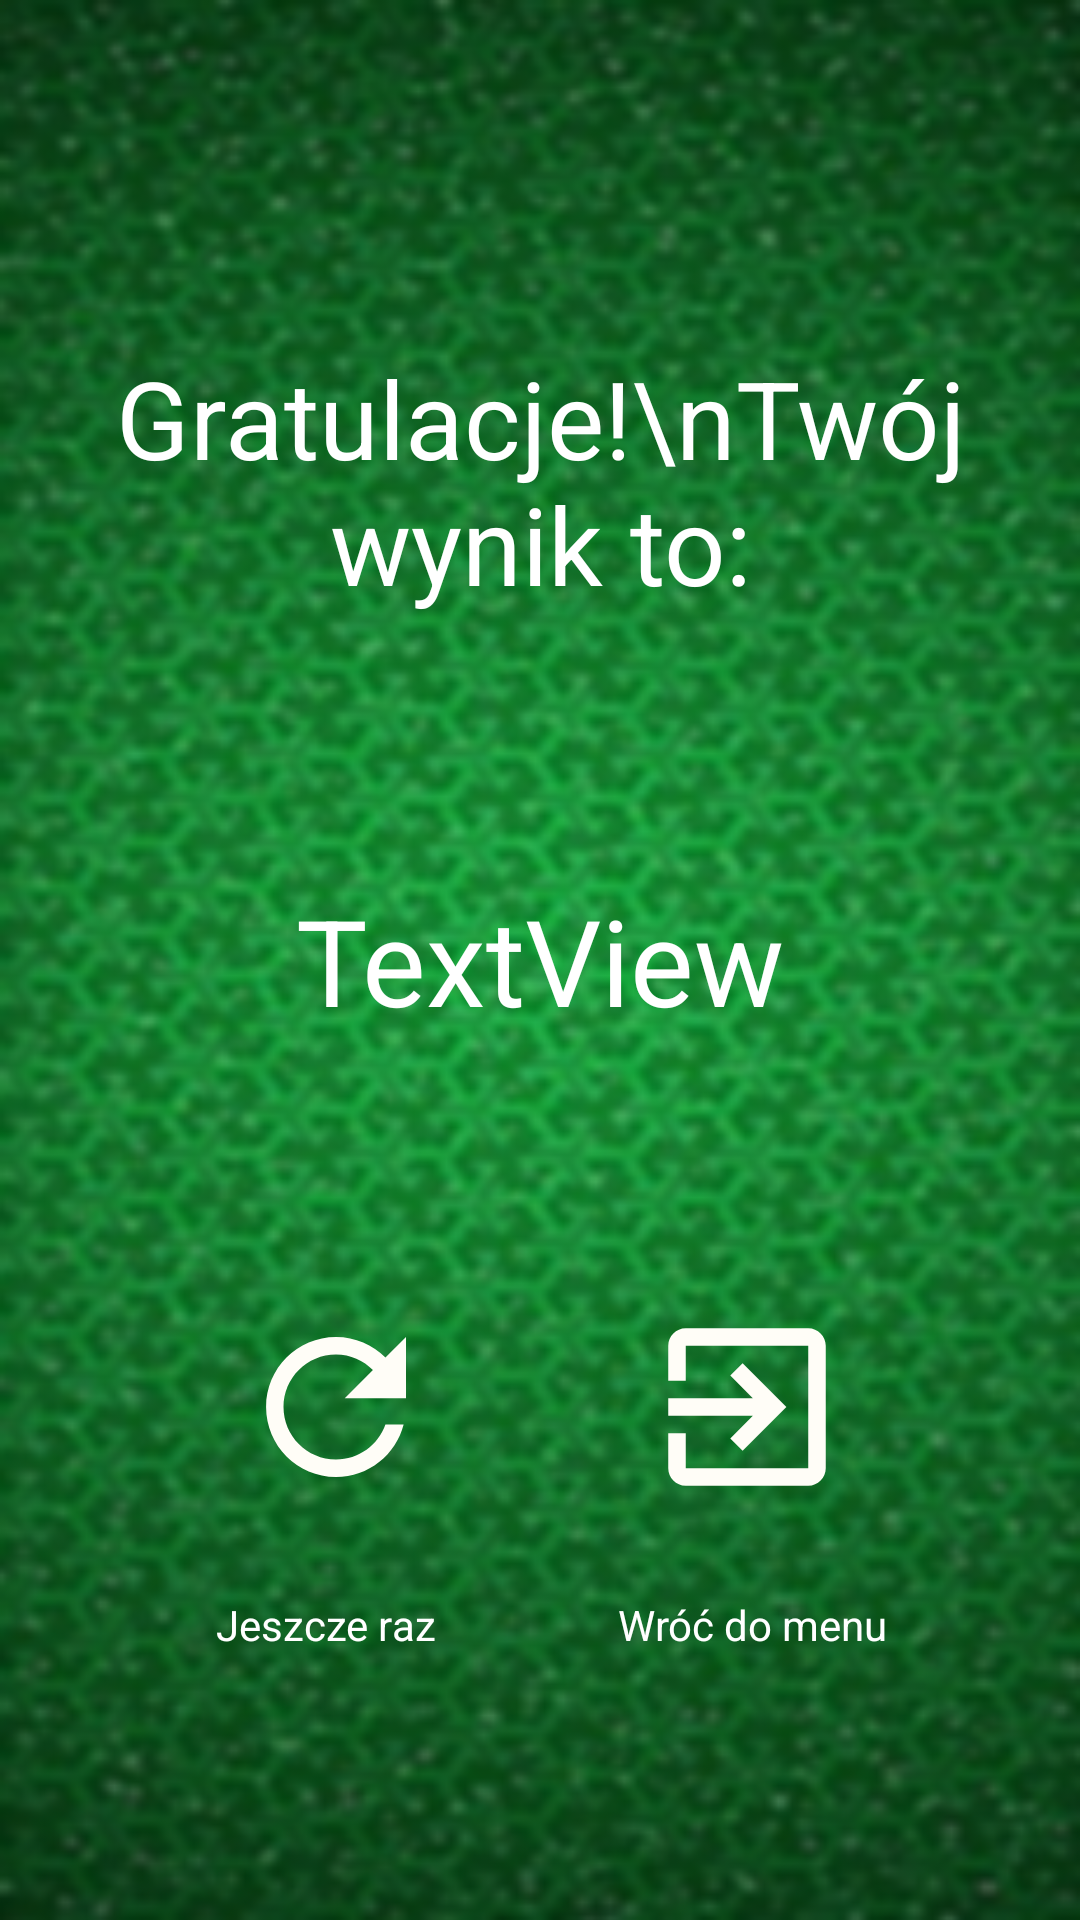

Named icons in this screenshot (1080 × 1920) and their centers, (x,y):
exit to app: (747,1407)
refresh: (336,1407)
